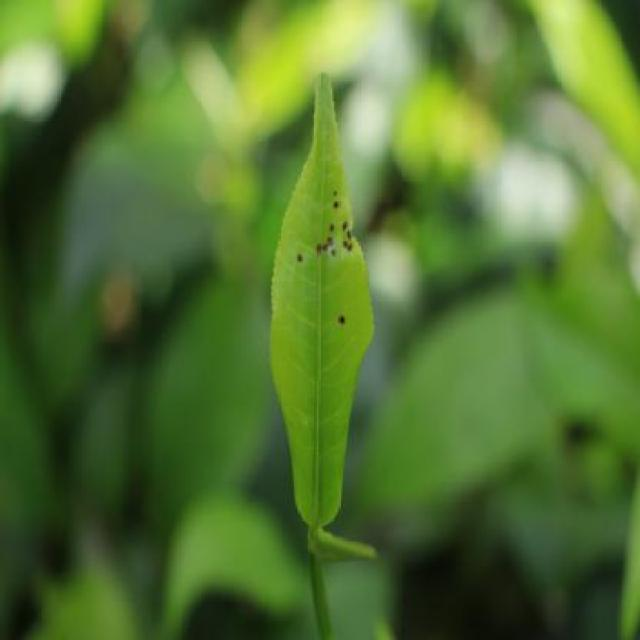Tea Mosquito bug infested leaf: (264, 102, 388, 556)
